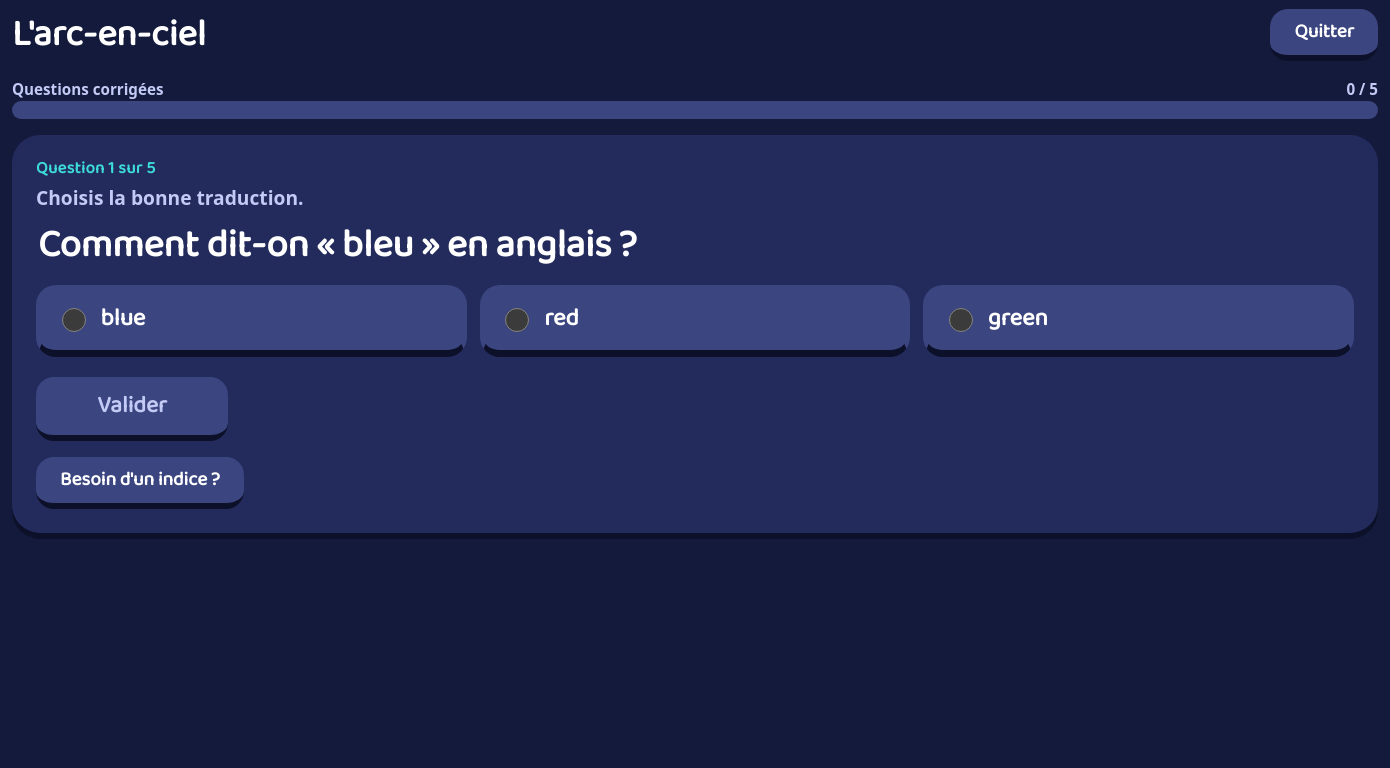
Scenario: écran de mission › conserve la correction après un échec de chargement et permet de reprendre
Click the radio button labelled "red".
click(517, 320)  # box [505,308,529,332]
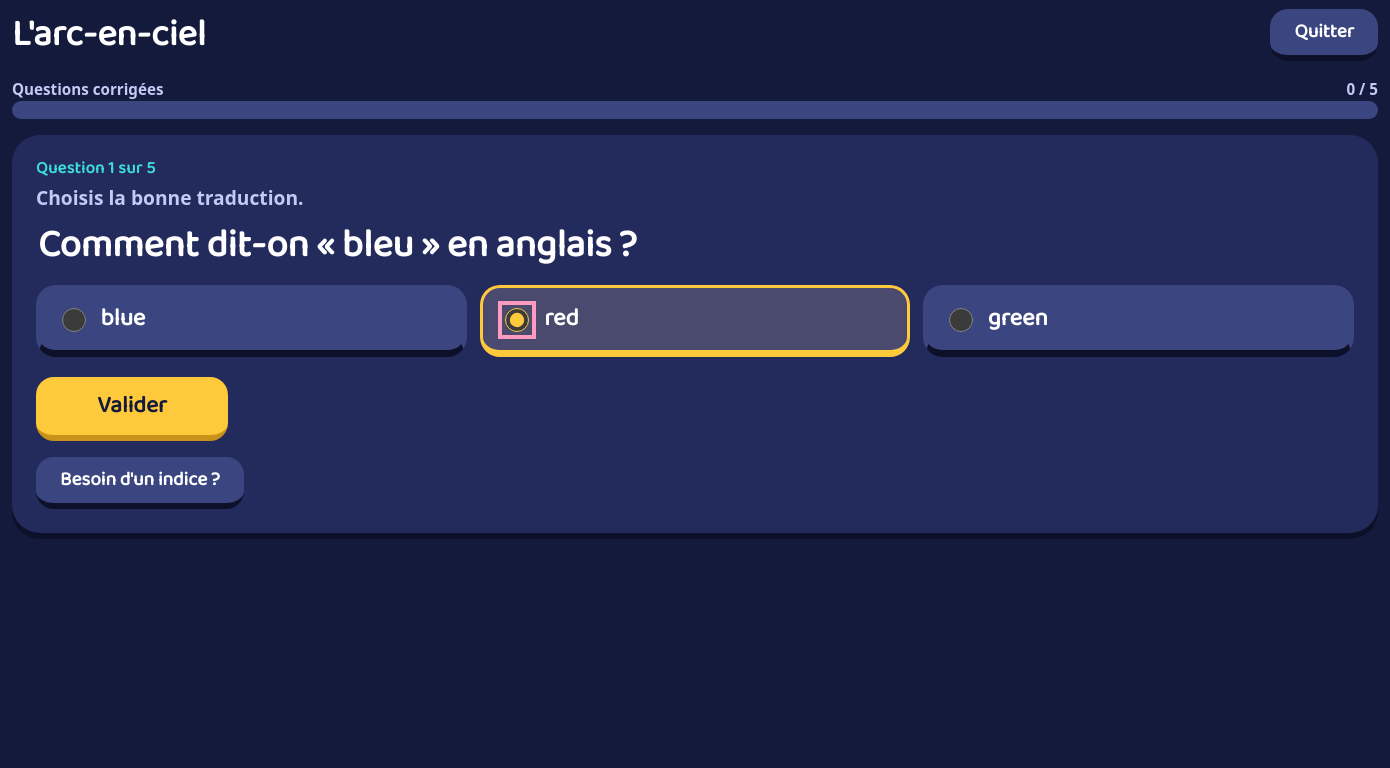
Click the button "Valider".
click(132, 409)  # box [36,377,228,441]
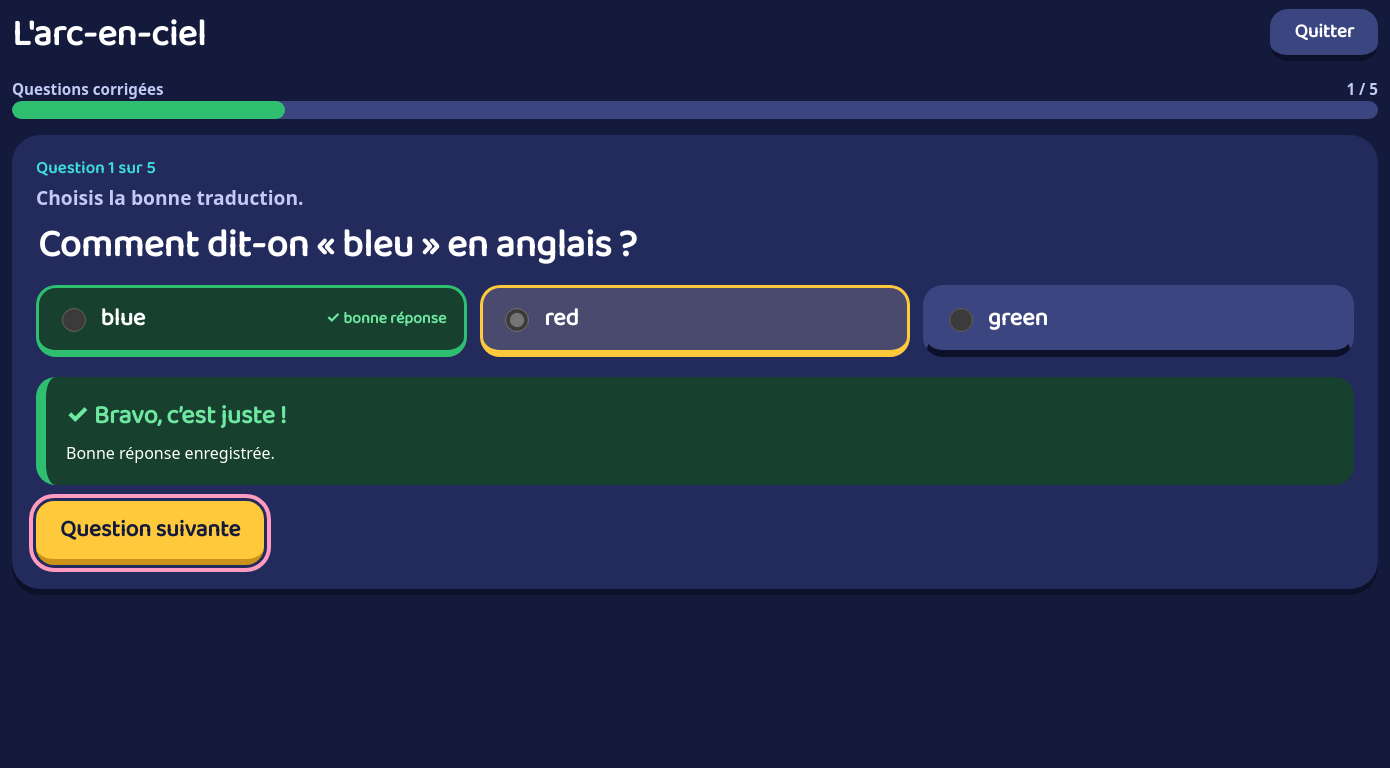
Expected: the text "Bonne réponse enregistrée." is shown, [66,442,275,464]
Click the button "Question suivante".
click(150, 533)  # box [36,501,264,565]
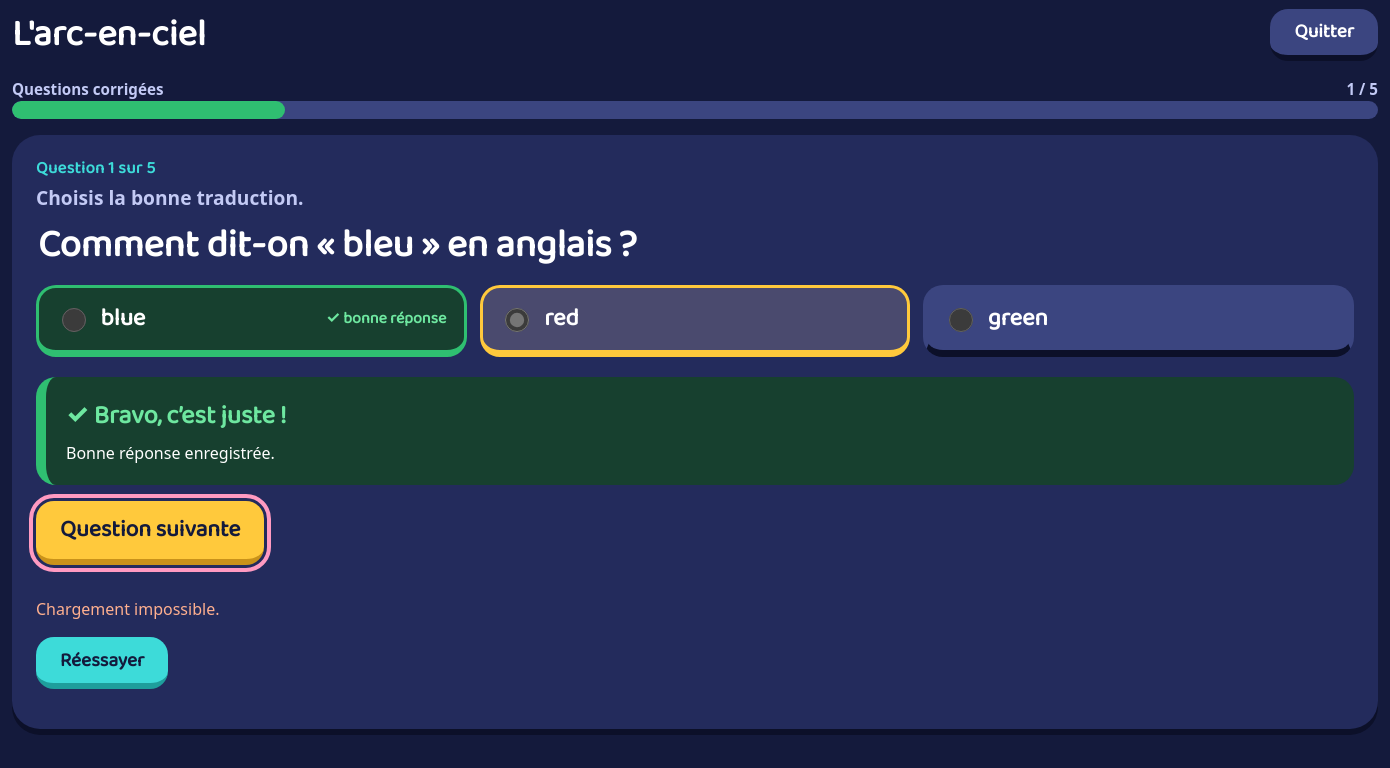
Expected: the radio button labelled "red" is disabled, [505,308,529,332]
Expected: the text "Bonne réponse enregistrée." is shown, [66,442,275,464]
Expected: the text "Chargement impossible." is shown, [36,598,220,620]
Click the button "Réessayer".
click(102, 663)  # box [36,637,168,689]
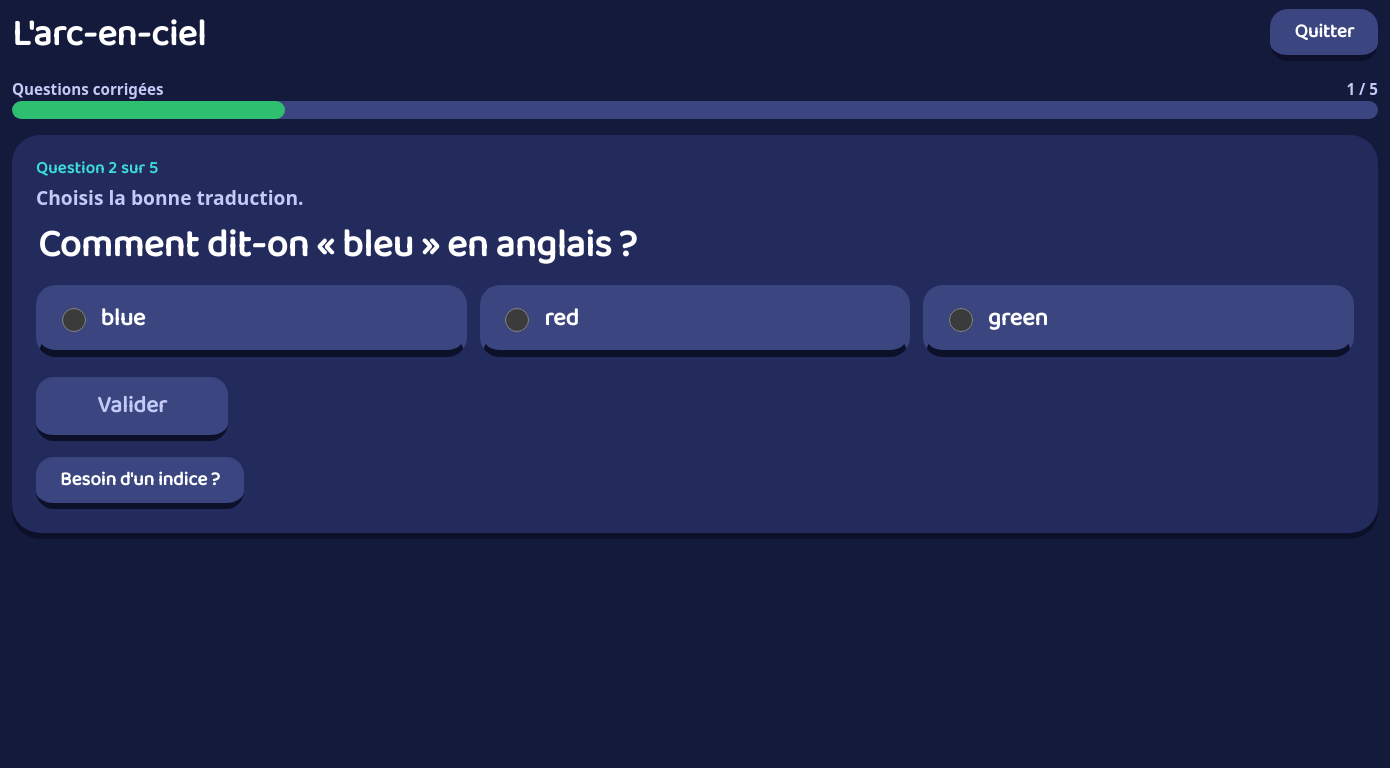
Expected: the heading "Question 2 sur 5" is shown, [36,155,158,182]
Expected: the text "Bonne réponse enregistrée." is gone
